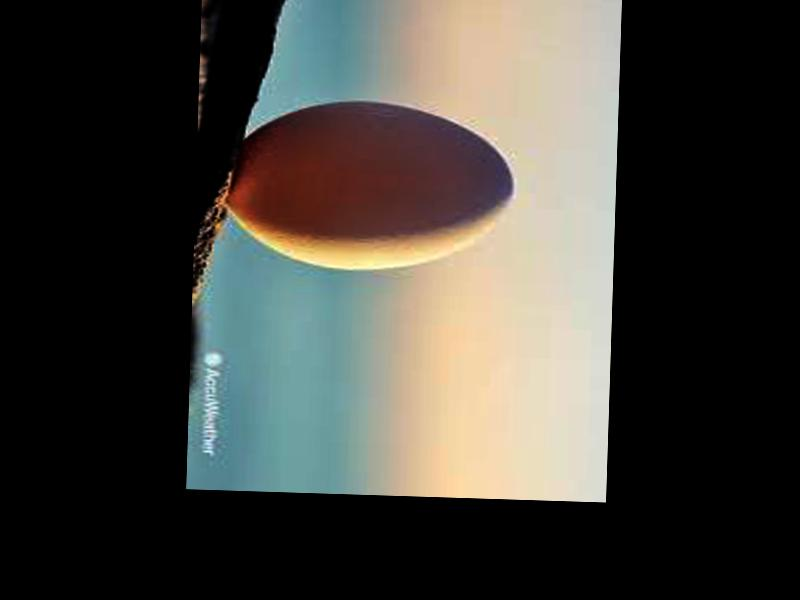Eggs: (227, 96, 518, 275)
